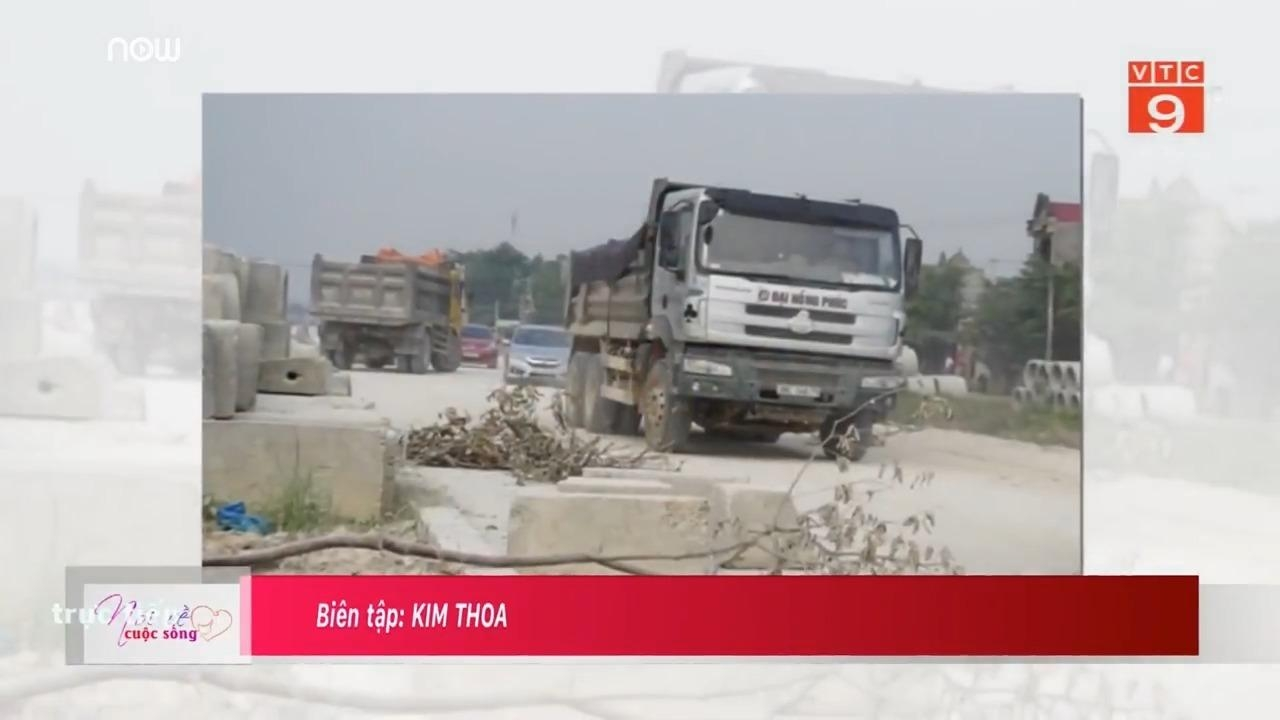car: (503, 323, 572, 387), (458, 320, 502, 369)
truck: (558, 175, 923, 460), (308, 247, 469, 373)
